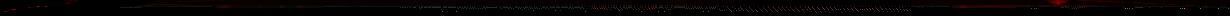Blue cone: (10, 9, 18, 10)
Yellow cone: (1048, 0, 1068, 5), (1203, 6, 1209, 8)
